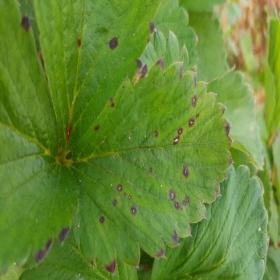Leaf Spot: (64, 55, 235, 275), (33, 0, 164, 160)
